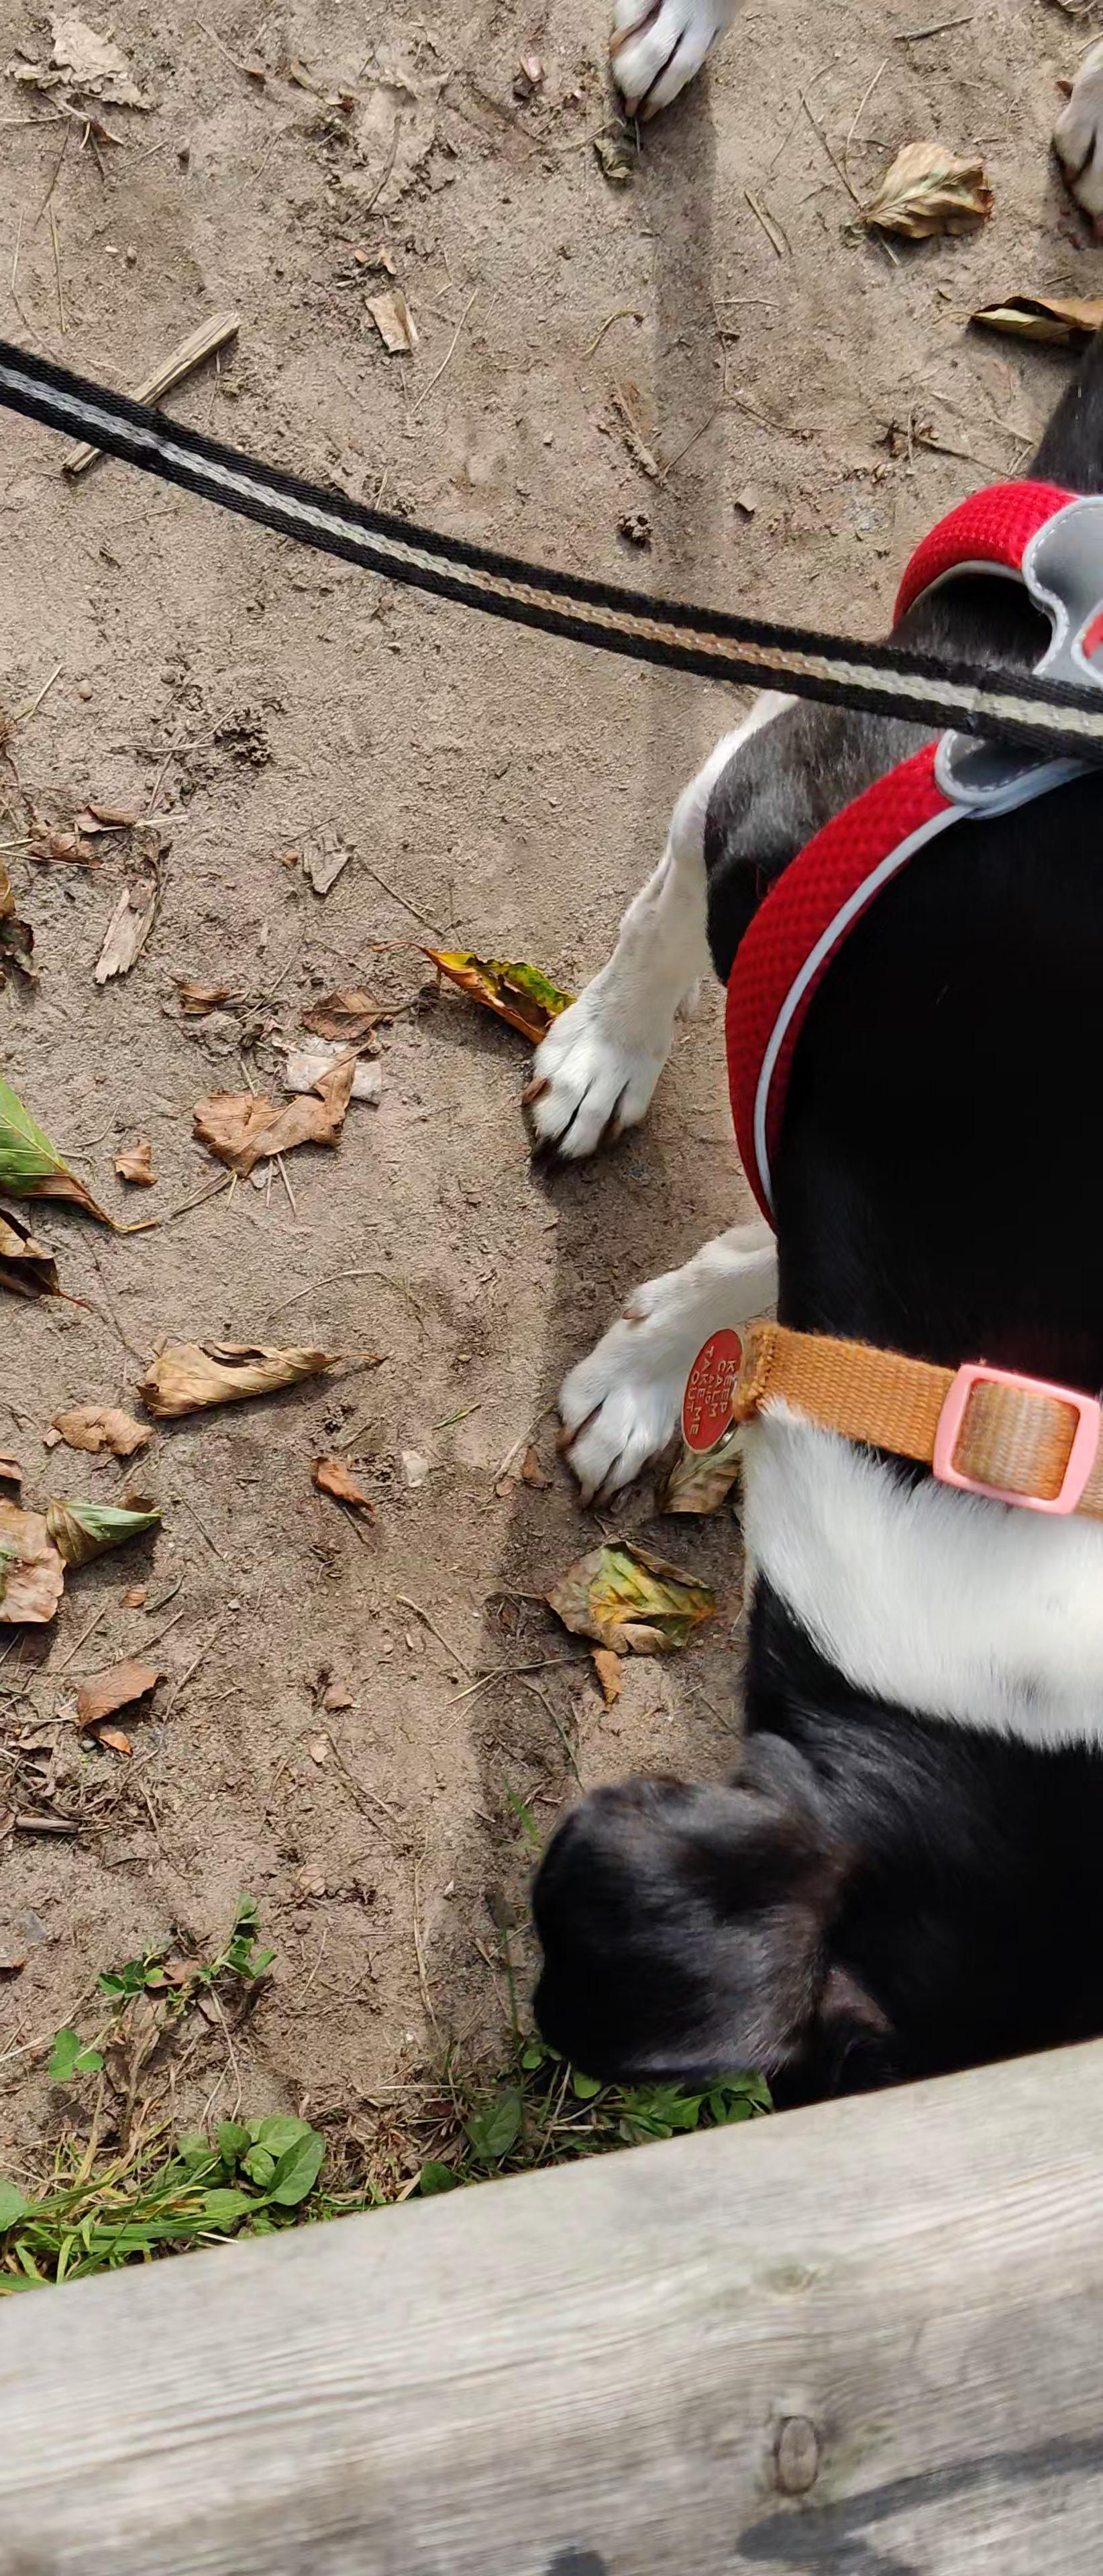Dog: (483, 0, 1103, 2241)
